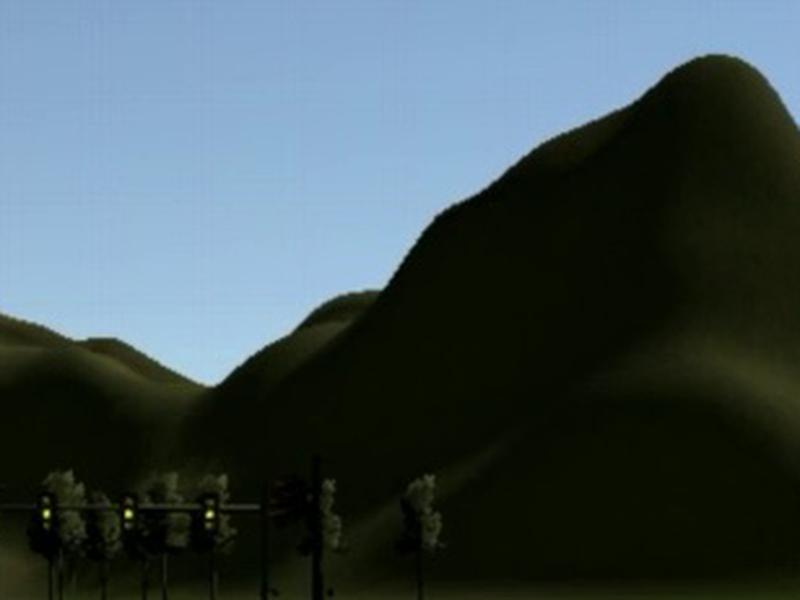Yellow: (38, 491, 56, 536), (201, 494, 219, 537), (121, 492, 137, 537)
